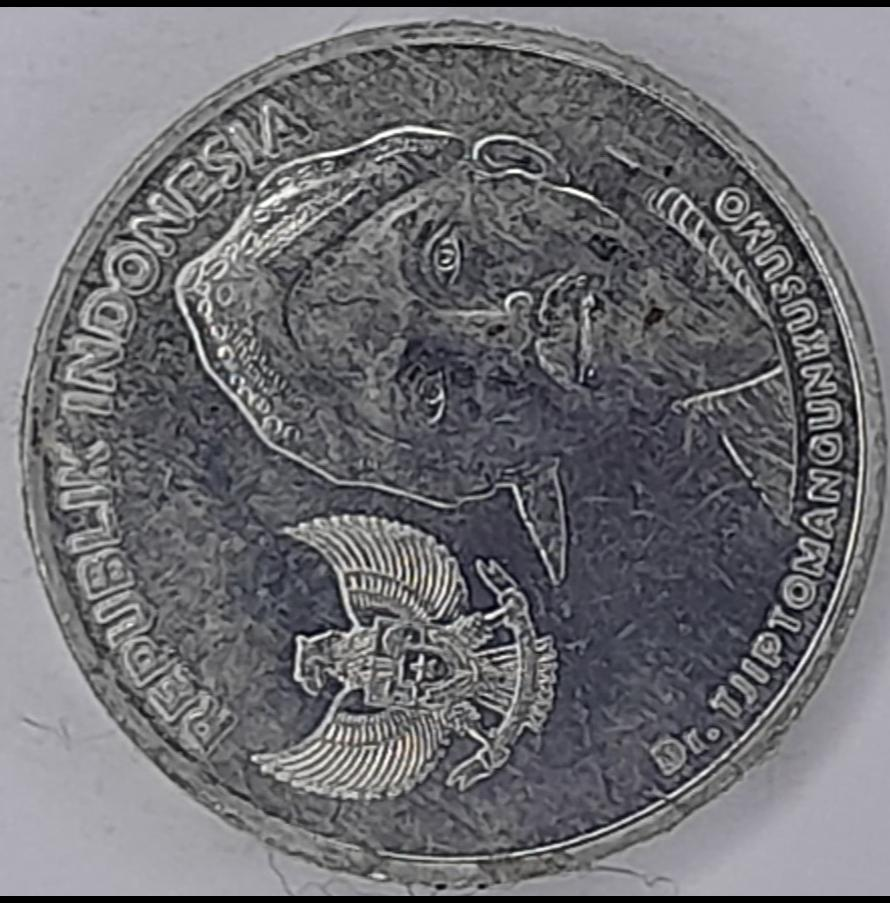coin_200_e2016: (0, 16, 890, 903)
